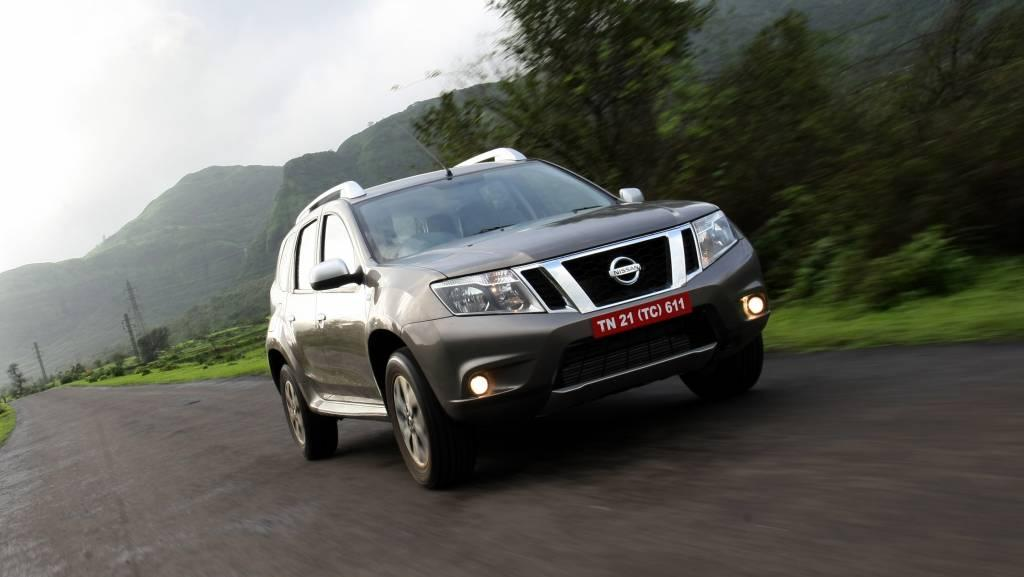License-Plate: (585, 289, 715, 341)
